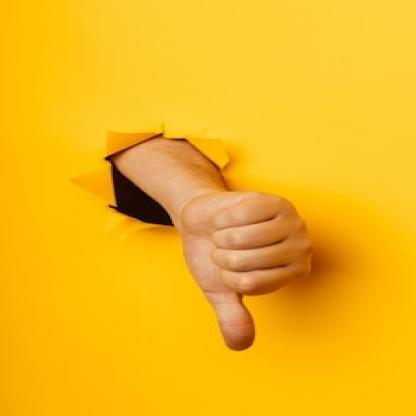thumb_down: (178, 186, 320, 352)
